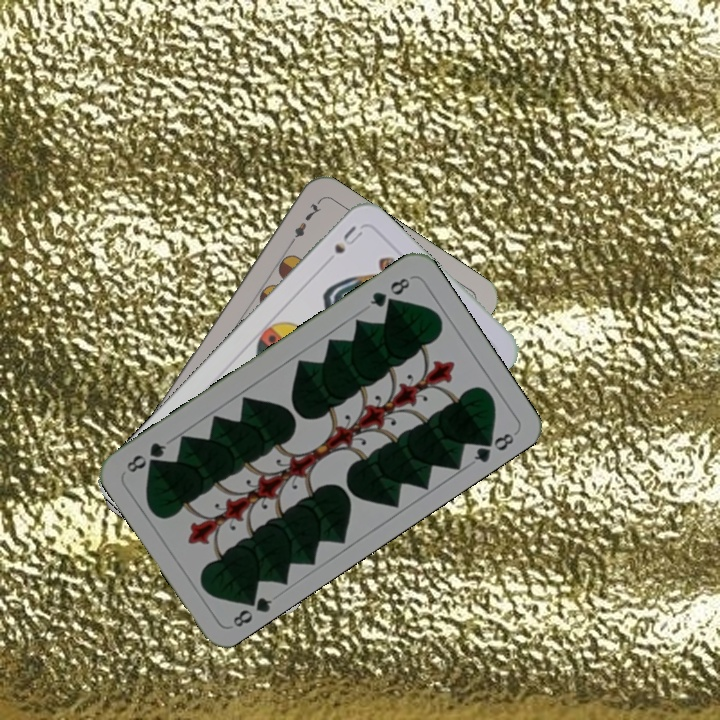E7: (284, 197, 324, 250)
G8: (228, 588, 275, 630), (365, 273, 413, 310)
SU: (330, 221, 366, 257)
